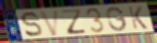3: (85, 7, 106, 34)
G: (106, 6, 128, 32)
K: (127, 6, 149, 31)
S: (20, 11, 44, 38)
V: (38, 9, 61, 37)
Z: (60, 8, 88, 36)
